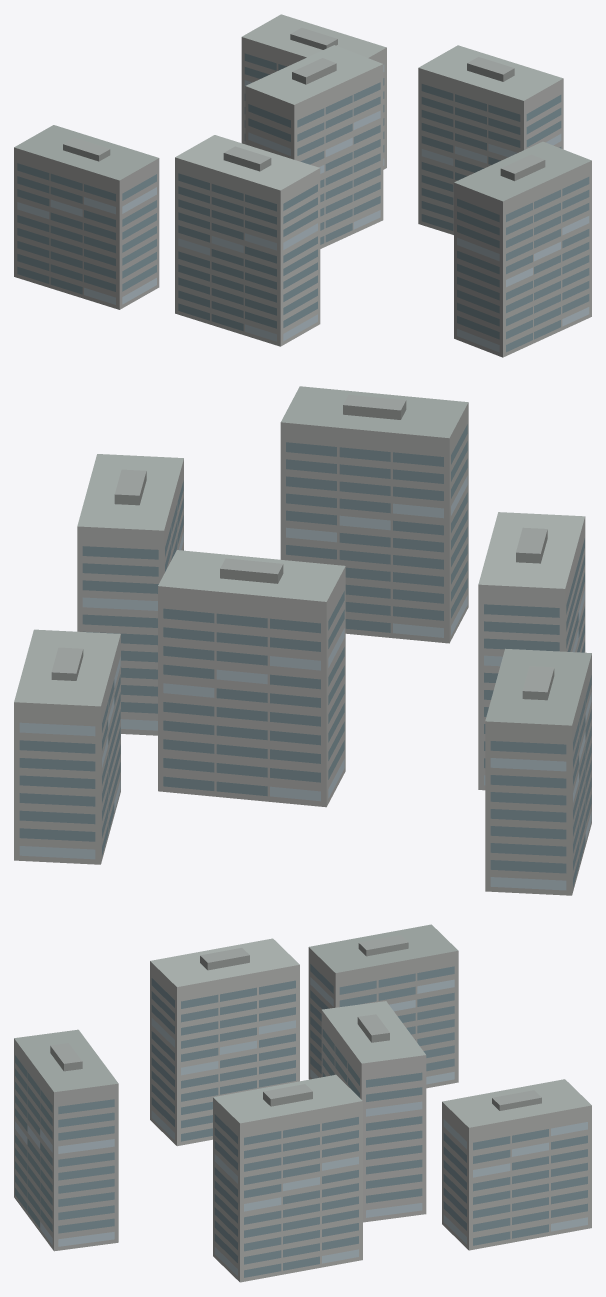
The model's file is apt-a13679902.glb.
3 renders of one model, top to bottom at view 1: azimuth 30°, elevation 25°; view 2: azimuth 150°, elevation 25°; view 3: azimuth 270°, elevation 25°, orthographic. The views are drawn at different scales.
Parts seen in each view (by area): view 1: apt-a13679902; view 2: apt-a13679902; view 3: apt-a13679902.
Boxes of the visible parts, x1=… form: apt-a13679902: x1=14, y1=14, x2=591, y2=357; apt-a13679902: x1=14, y1=386, x2=591, y2=895; apt-a13679902: x1=14, y1=924, x2=591, y2=1282.
Bounding box in the file's own units: 102 × 35 × 110.
